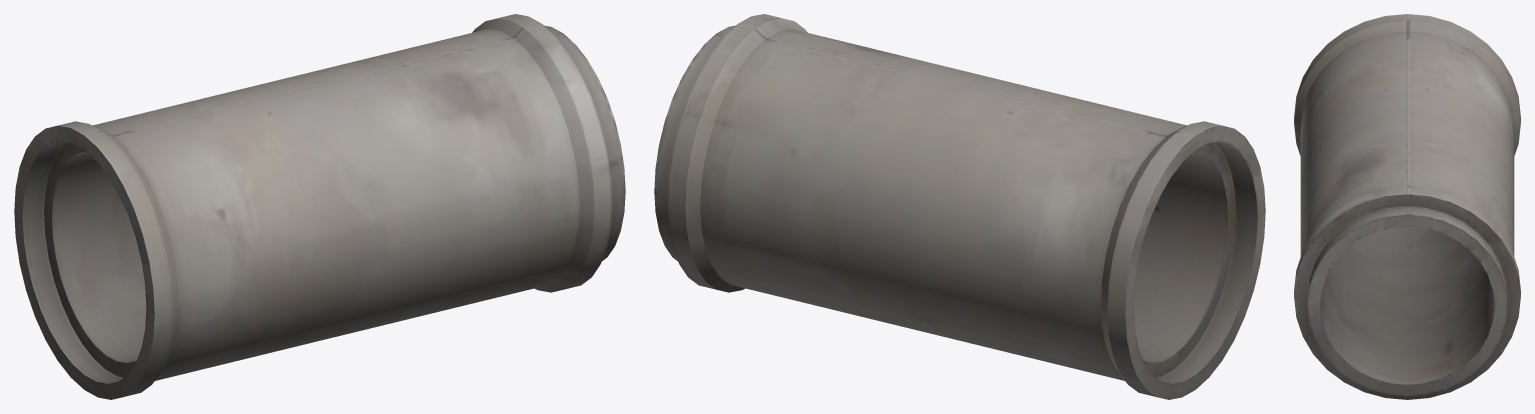
3 renders of one model, left to right at view 1: azimuth 30°, elevation 25°; view 2: azimuth 150°, elevation 25°; view 3: azimuth 270°, elevation 25°, orthographic. The views are drawn at different scales.
Parts seen in each view (by area): view 1: body0_model0_lod0_mesh0; view 2: body0_model0_lod0_mesh0; view 3: body0_model0_lod0_mesh0.
Boxes of the visible parts, box(x1,y1,x2,y2) form: body0_model0_lod0_mesh0: box(14, 14, 625, 399); body0_model0_lod0_mesh0: box(654, 14, 1265, 399); body0_model0_lod0_mesh0: box(1294, 14, 1520, 399).
Bounding box in the file's own units: 134 × 67.96 × 67.96.
Materials: 1 (1 with a texture image).
